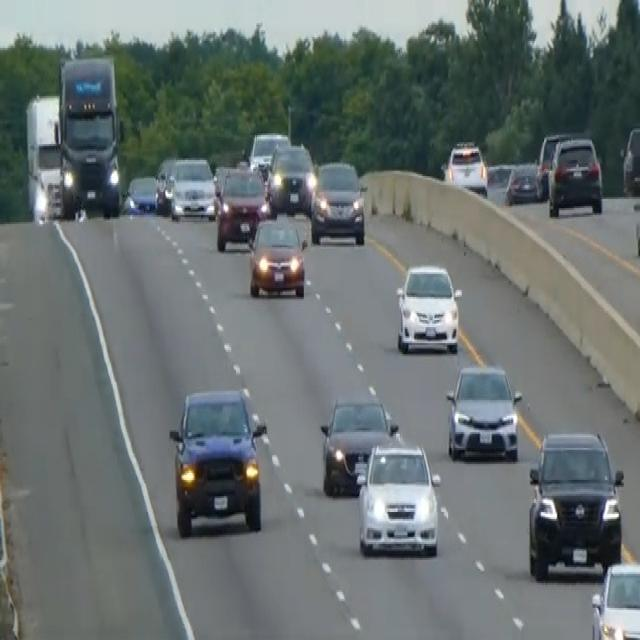car: (168, 384, 267, 537), (356, 438, 441, 556), (319, 393, 399, 496), (445, 361, 522, 462), (395, 260, 462, 354), (246, 213, 307, 299), (309, 158, 367, 245), (214, 165, 271, 251), (547, 135, 603, 217), (590, 558, 639, 638), (267, 142, 315, 214), (169, 154, 215, 220), (444, 137, 488, 197), (534, 130, 572, 199), (247, 128, 290, 178), (505, 160, 540, 204), (620, 122, 639, 196), (124, 173, 157, 215), (154, 154, 177, 212), (485, 160, 514, 204)
jeep: (526, 427, 625, 581)
lorry: (57, 53, 123, 219)
